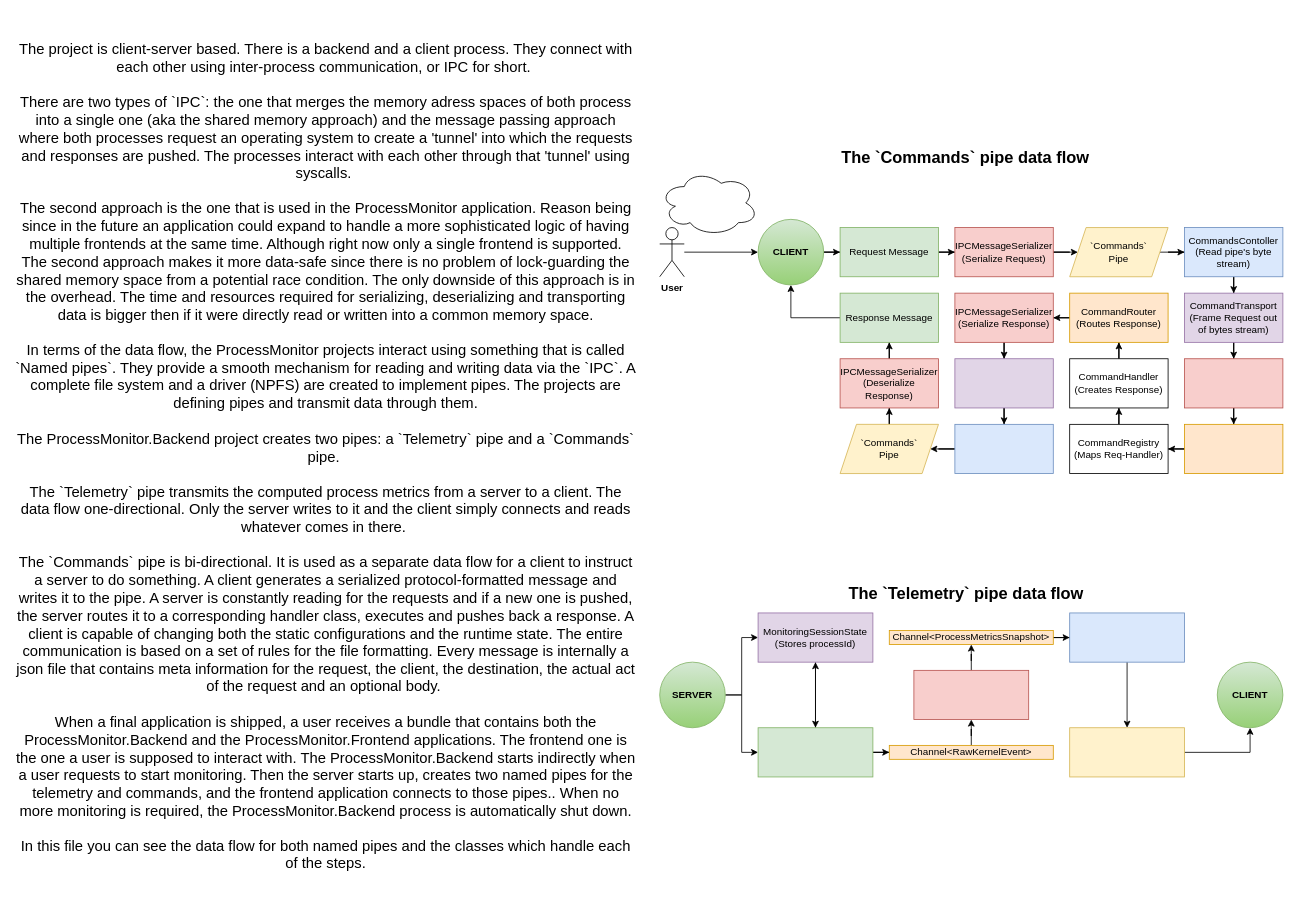
This 1297x913 diagram has some shape labels left out. The shapes that lost their labels are listed below. From the top down, each one's centre as x and y in pixels, then its label:
At (x=708, y=202): "Do work shaitan".
At (x=1003, y=383): "CommandTransport (Frame Response into bytes stream)".
At (x=1233, y=383): "IPCMessageSerializer (Deserialize Request)".
At (x=1003, y=449): "CommandsContoller (Write into pipe's byte stream)".
At (x=1233, y=449): "CommandRouter (Routes Request)".
At (x=1126, y=637): "IPCMetricsPublisher (Serializes and sends metrics)".
At (x=971, y=695): "EventMetricsEngine (Builds metrics from events)".
At (x=815, y=752): "EventStreamCollector (Reads events related to process id)".
At (x=1126, y=752): "`Telemetry` Pipe".
